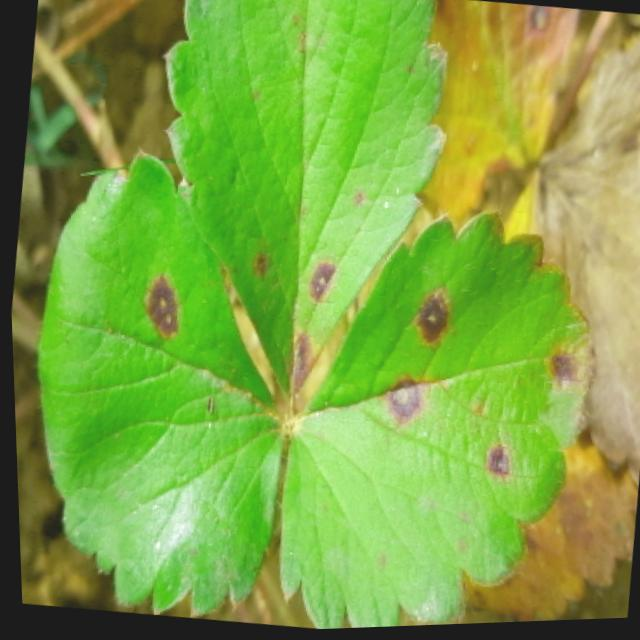Leaf Spot: (272, 209, 594, 631), (32, 146, 287, 619), (163, 0, 448, 404), (397, 0, 579, 248)
